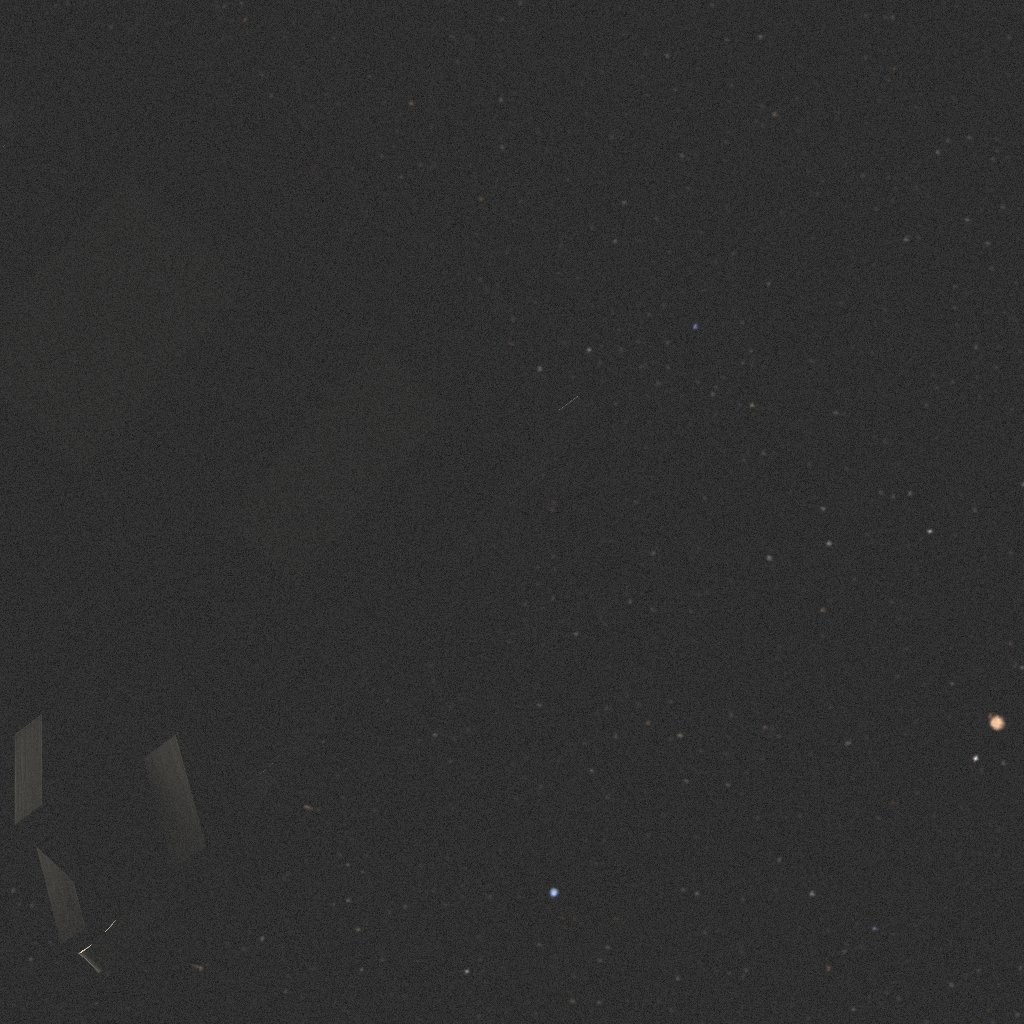proba_3_ocs: (3, 60, 651, 989)
